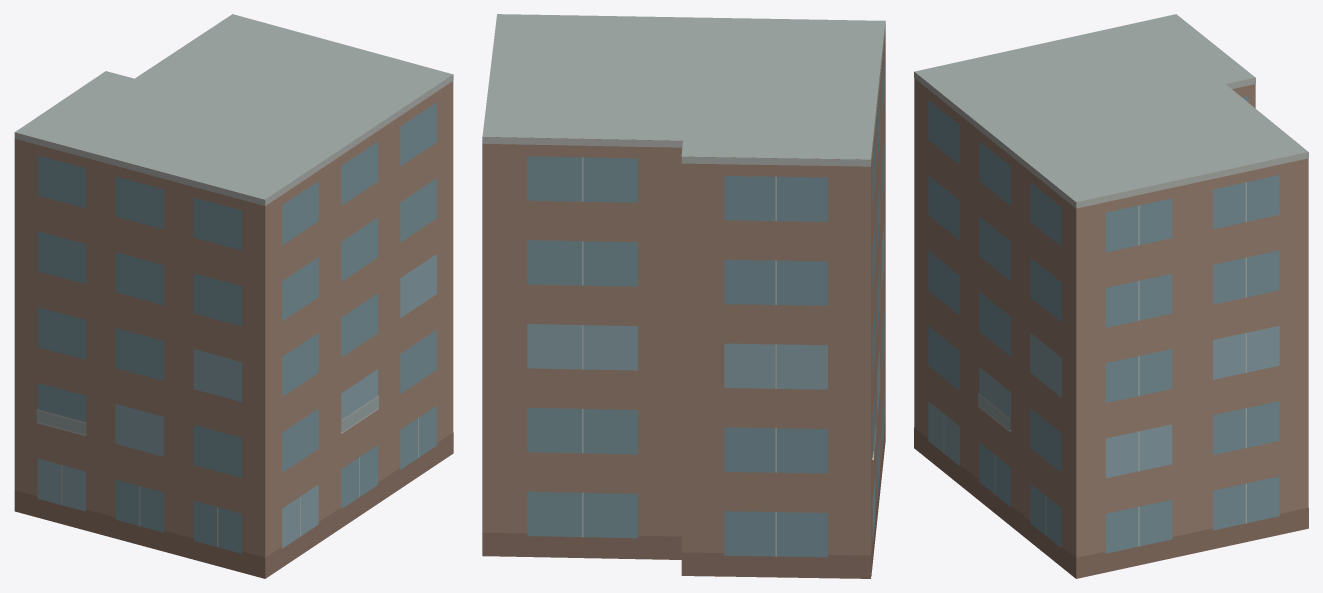
File: survey-upis-32703718.glb
3 views of the same model, side by side, from view 1: azimuth 30°, elevation 25°; view 2: azimuth 150°, elevation 25°; view 3: azimuth 270°, elevation 25° (orthographic). The views are drawn at different scales.
Parts seen in each view (by area): view 1: survey-upis-32703718.tmp; view 2: survey-upis-32703718.tmp; view 3: survey-upis-32703718.tmp.
Boxes of the visible parts, x1,y1,x2,y2 form: survey-upis-32703718.tmp: [14, 14, 453, 578]; survey-upis-32703718.tmp: [482, 14, 885, 578]; survey-upis-32703718.tmp: [914, 14, 1308, 578].
Size of the model in its own units: 15.67 by 14.6 by 13.87.
